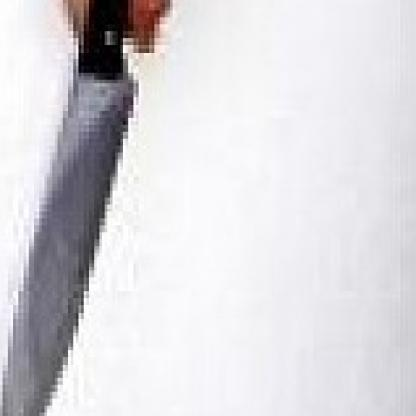knife: (0, 0, 183, 413)
